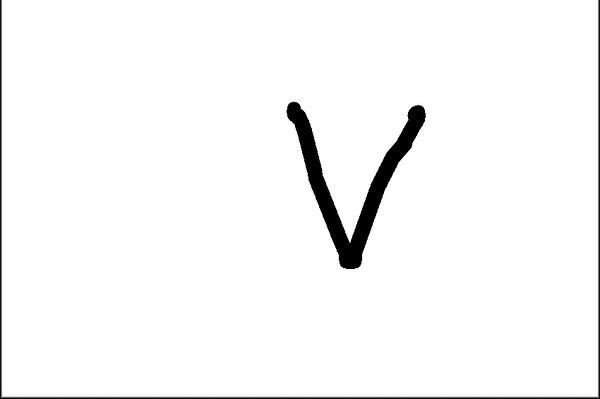V: (273, 93, 433, 271)
